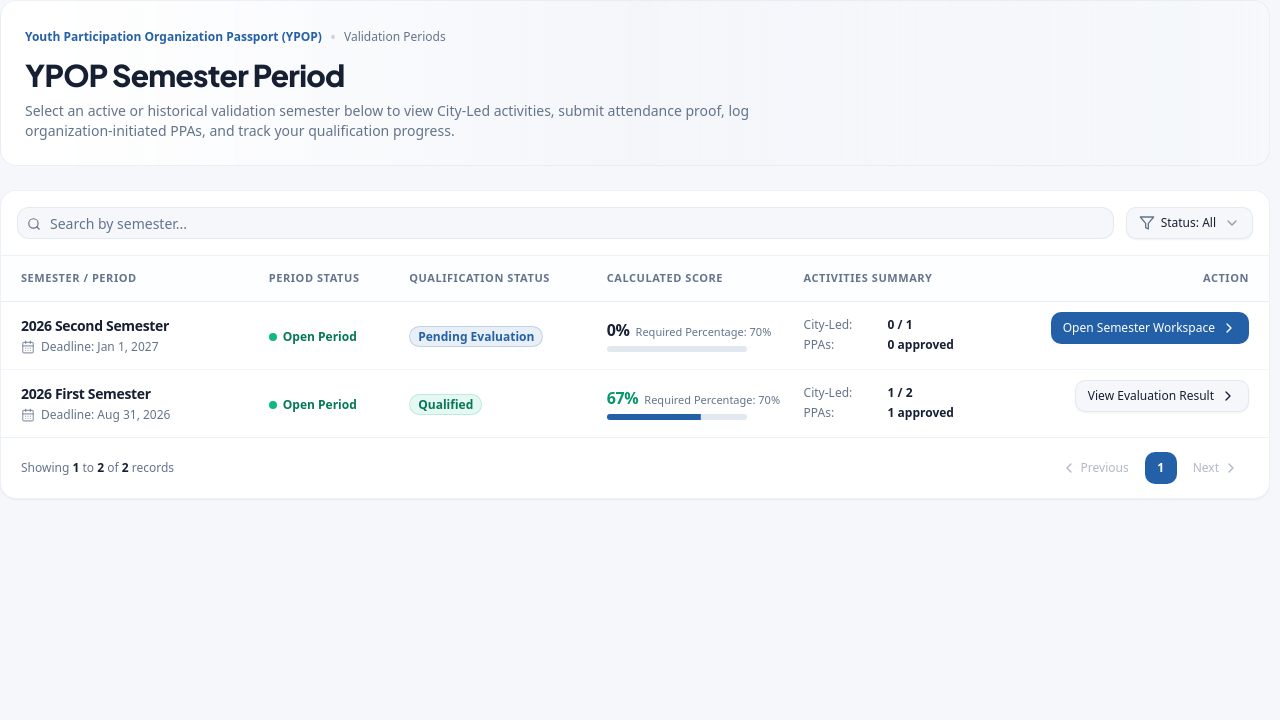
it: UserPortal YPOP Integration - Admin Configuration & Business Rules › 17. City-Led proof drawer opens and displays admin remarks and proof upload controls
Click the button "View Evaluation Result".
click(1162, 396)  # box [1075,380,1249,412]
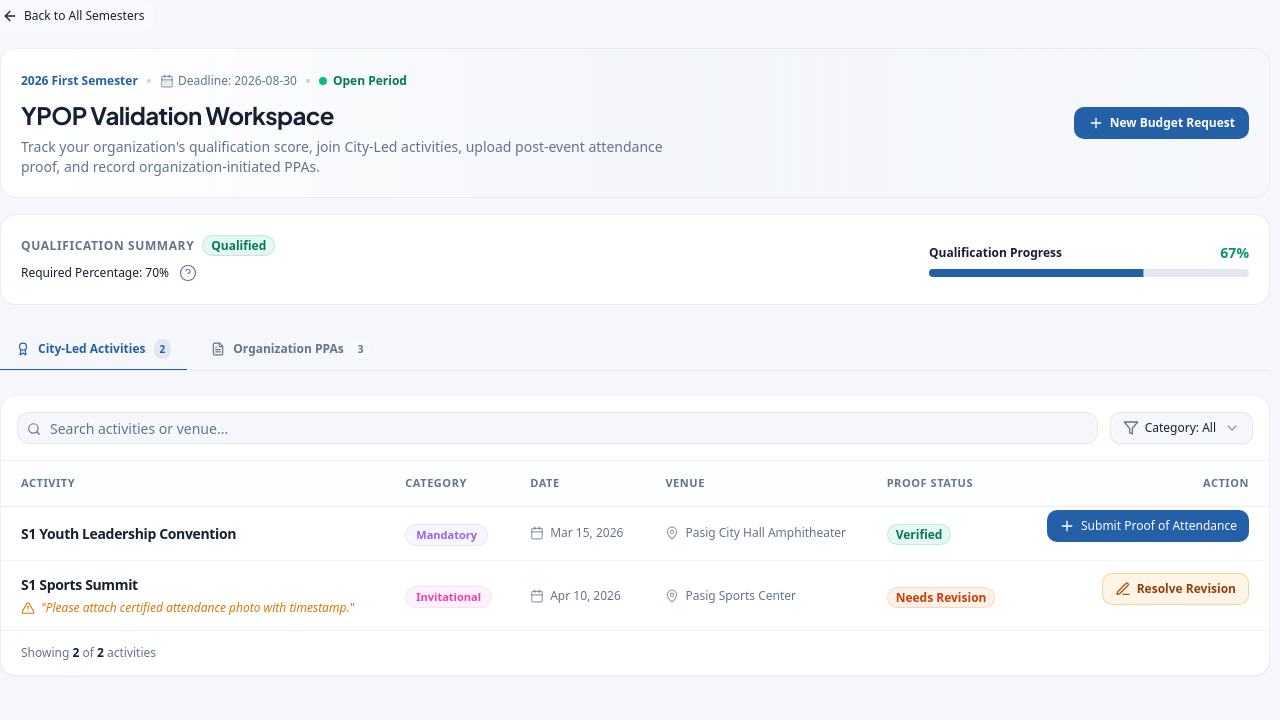
Click the button "Resolve Revision".
click(1175, 589)  # box [1102,573,1249,605]
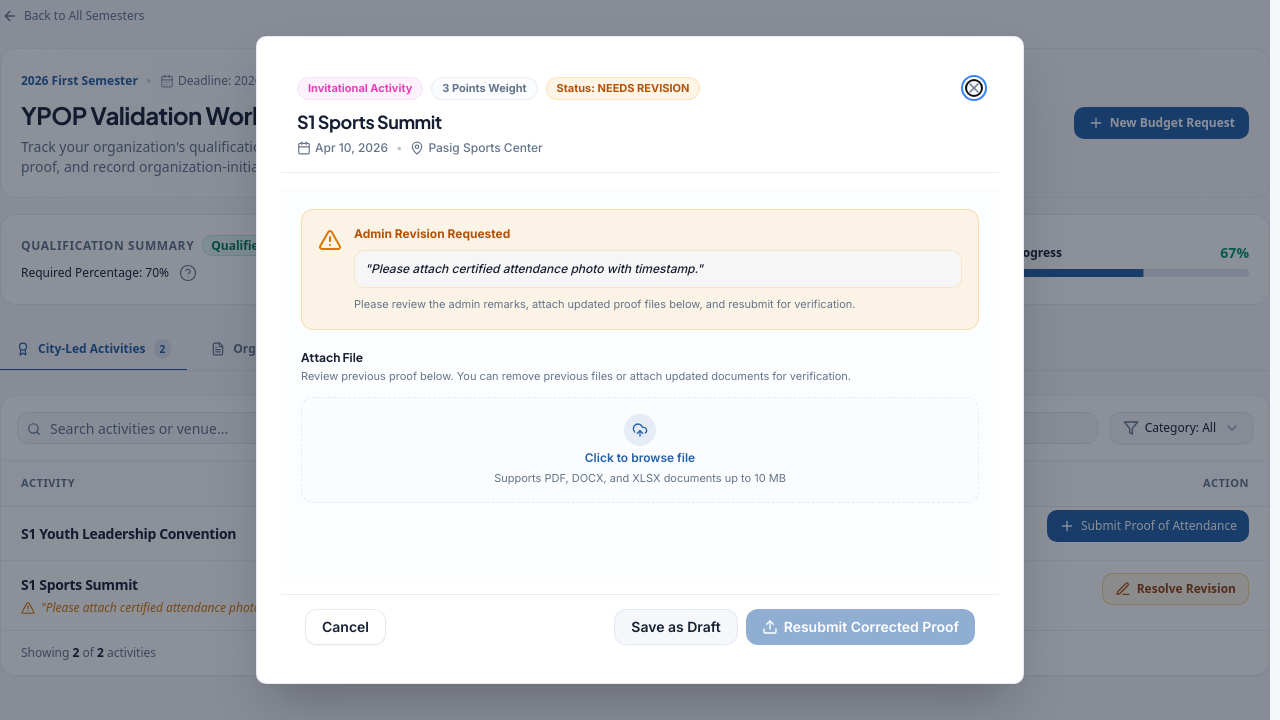
Expected: the text "\"Please attach certified attendance photo with timestamp.\"" below "S1 Youth Leadership Convention" is shown, [46,599,349,616]
Expected: the text "Admin Revision Requested" is shown, [354,226,510,240]
